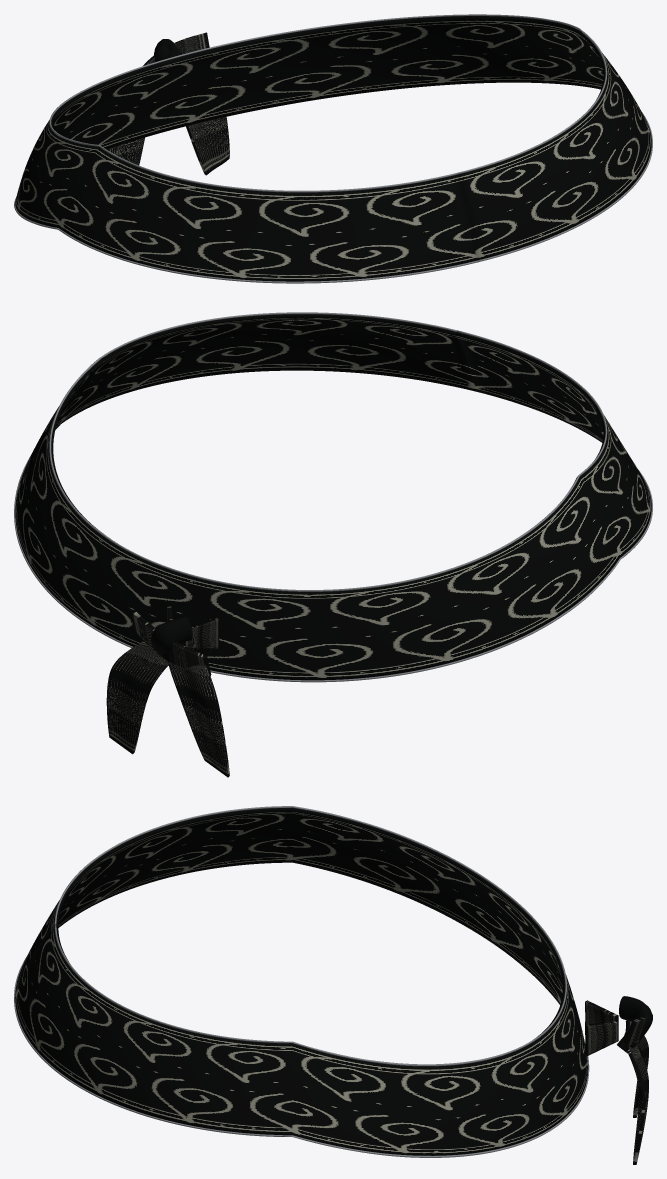
Rendered from Masculine-sidepart-headband251-headgear.glb.
The picture shows the model from 3 angles, top to bottom: view 1: azimuth 30°, elevation 25°; view 2: azimuth 150°, elevation 25°; view 3: azimuth 270°, elevation 25°; orthographic projection.
Visible parts, largest first — view 1: 226 headgear / Headwear / bandana235.001, 226 headgear / Headwear / bandana hem235.001; view 2: 226 headgear / Headwear / bandana235.001, 226 headgear / Headwear / bandana hem235.001; view 3: 226 headgear / Headwear / bandana235.001, 226 headgear / Headwear / bandana hem235.001.
Boxes of the visible parts, <box> form: 226 headgear / Headwear / bandana235.001: <box>15,16,651,281</box>; 226 headgear / Headwear / bandana hem235.001: <box>14,14,652,283</box>; 226 headgear / Headwear / bandana235.001: <box>15,314,651,777</box>; 226 headgear / Headwear / bandana hem235.001: <box>14,312,652,682</box>; 226 headgear / Headwear / bandana235.001: <box>15,808,652,1164</box>; 226 headgear / Headwear / bandana hem235.001: <box>14,806,589,1157</box>.
Bounding box in the file's own units: 0.9484 × 0.3553 × 0.9214.
2 materials, 1 textured.
